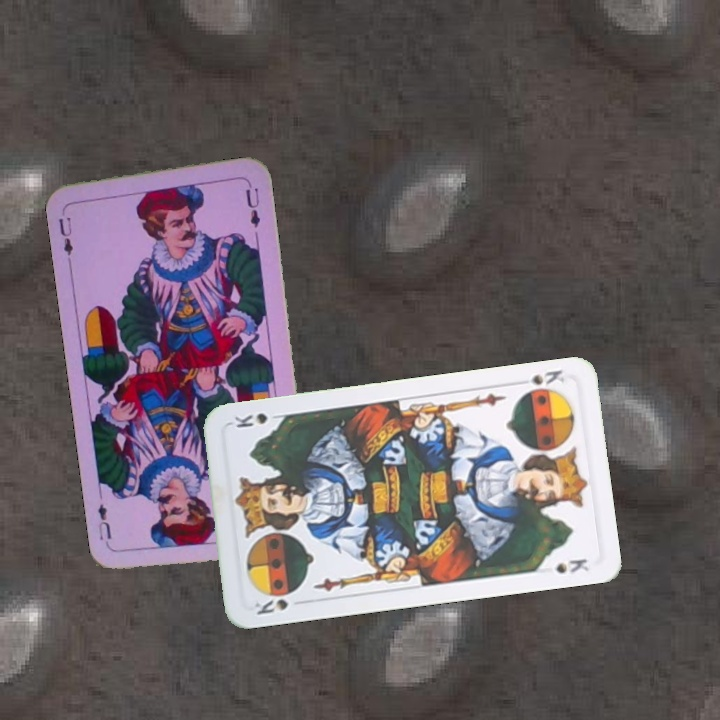EU: (55, 212, 76, 264)
SK: (512, 365, 567, 388), (250, 595, 291, 617)
